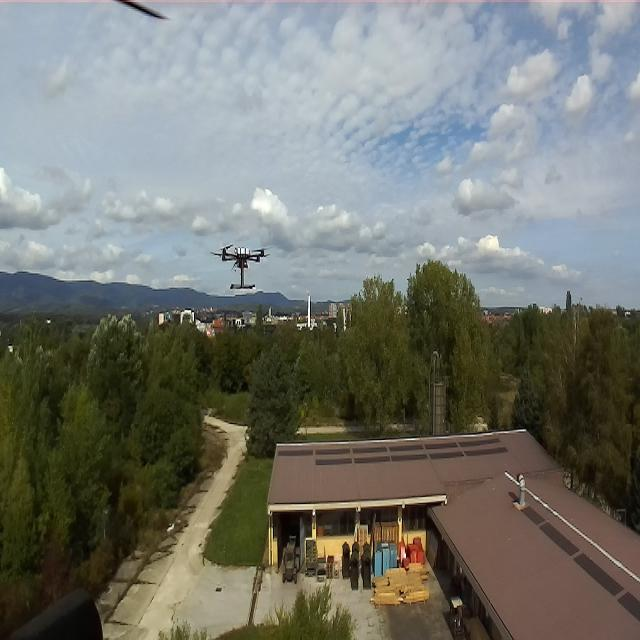UAV: (208, 239, 276, 288)
